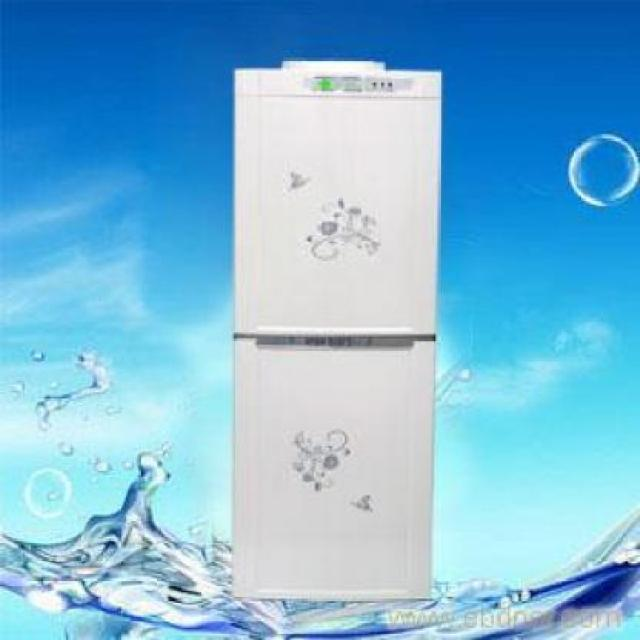cooler: (232, 55, 444, 601)
